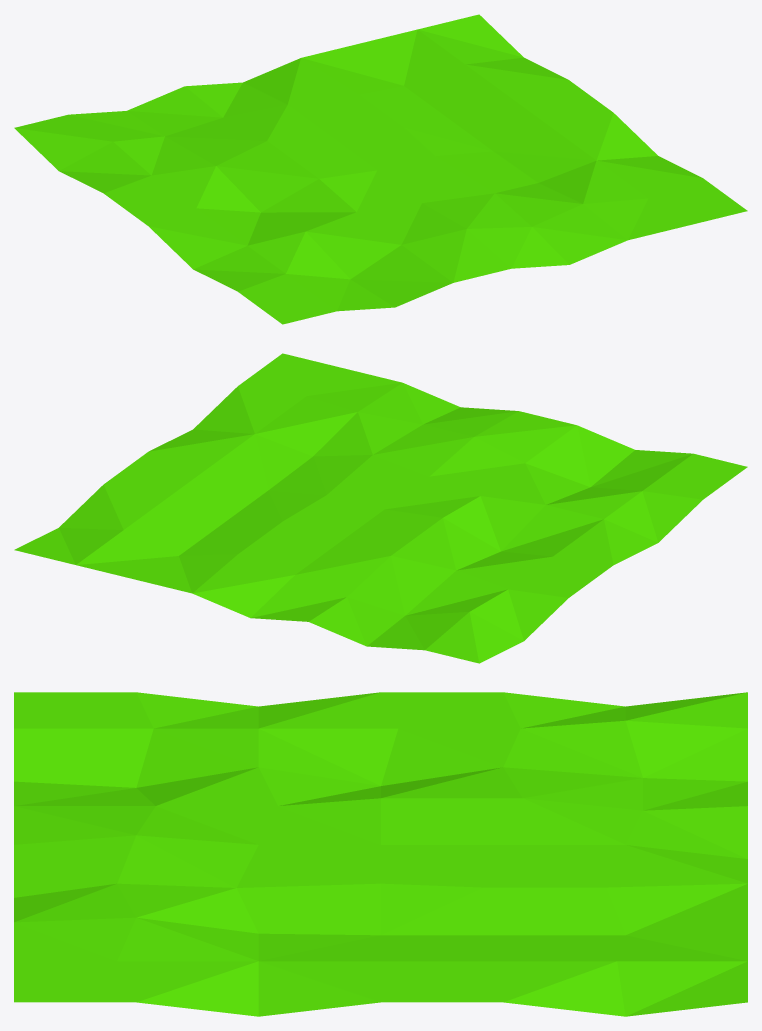
File: Ground.fbx
The picture shows the model from 3 angles, top to bottom: view 1: azimuth 30°, elevation 25°; view 2: azimuth 150°, elevation 25°; view 3: azimuth 270°, elevation 25°; orthographic projection. The views are drawn at different scales.
Visible parts, largest first — view 1: Ground; view 2: Ground; view 3: Ground.
Part boxes in pixels (x1=…): Ground: x1=14, y1=14, x2=747, y2=324; Ground: x1=14, y1=353, x2=747, y2=663; Ground: x1=14, y1=692, x2=747, y2=1016.
Size of the model in its own units: 2000 by 90.37 by 2000.
